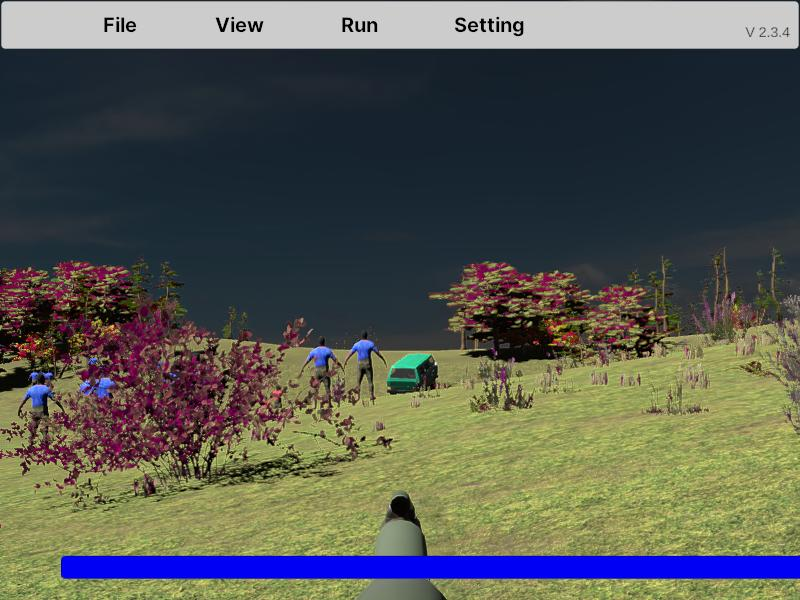Human: (18, 372, 65, 455), (301, 335, 343, 413), (345, 329, 387, 403)
car: (387, 353, 438, 396), (387, 354, 439, 396)
